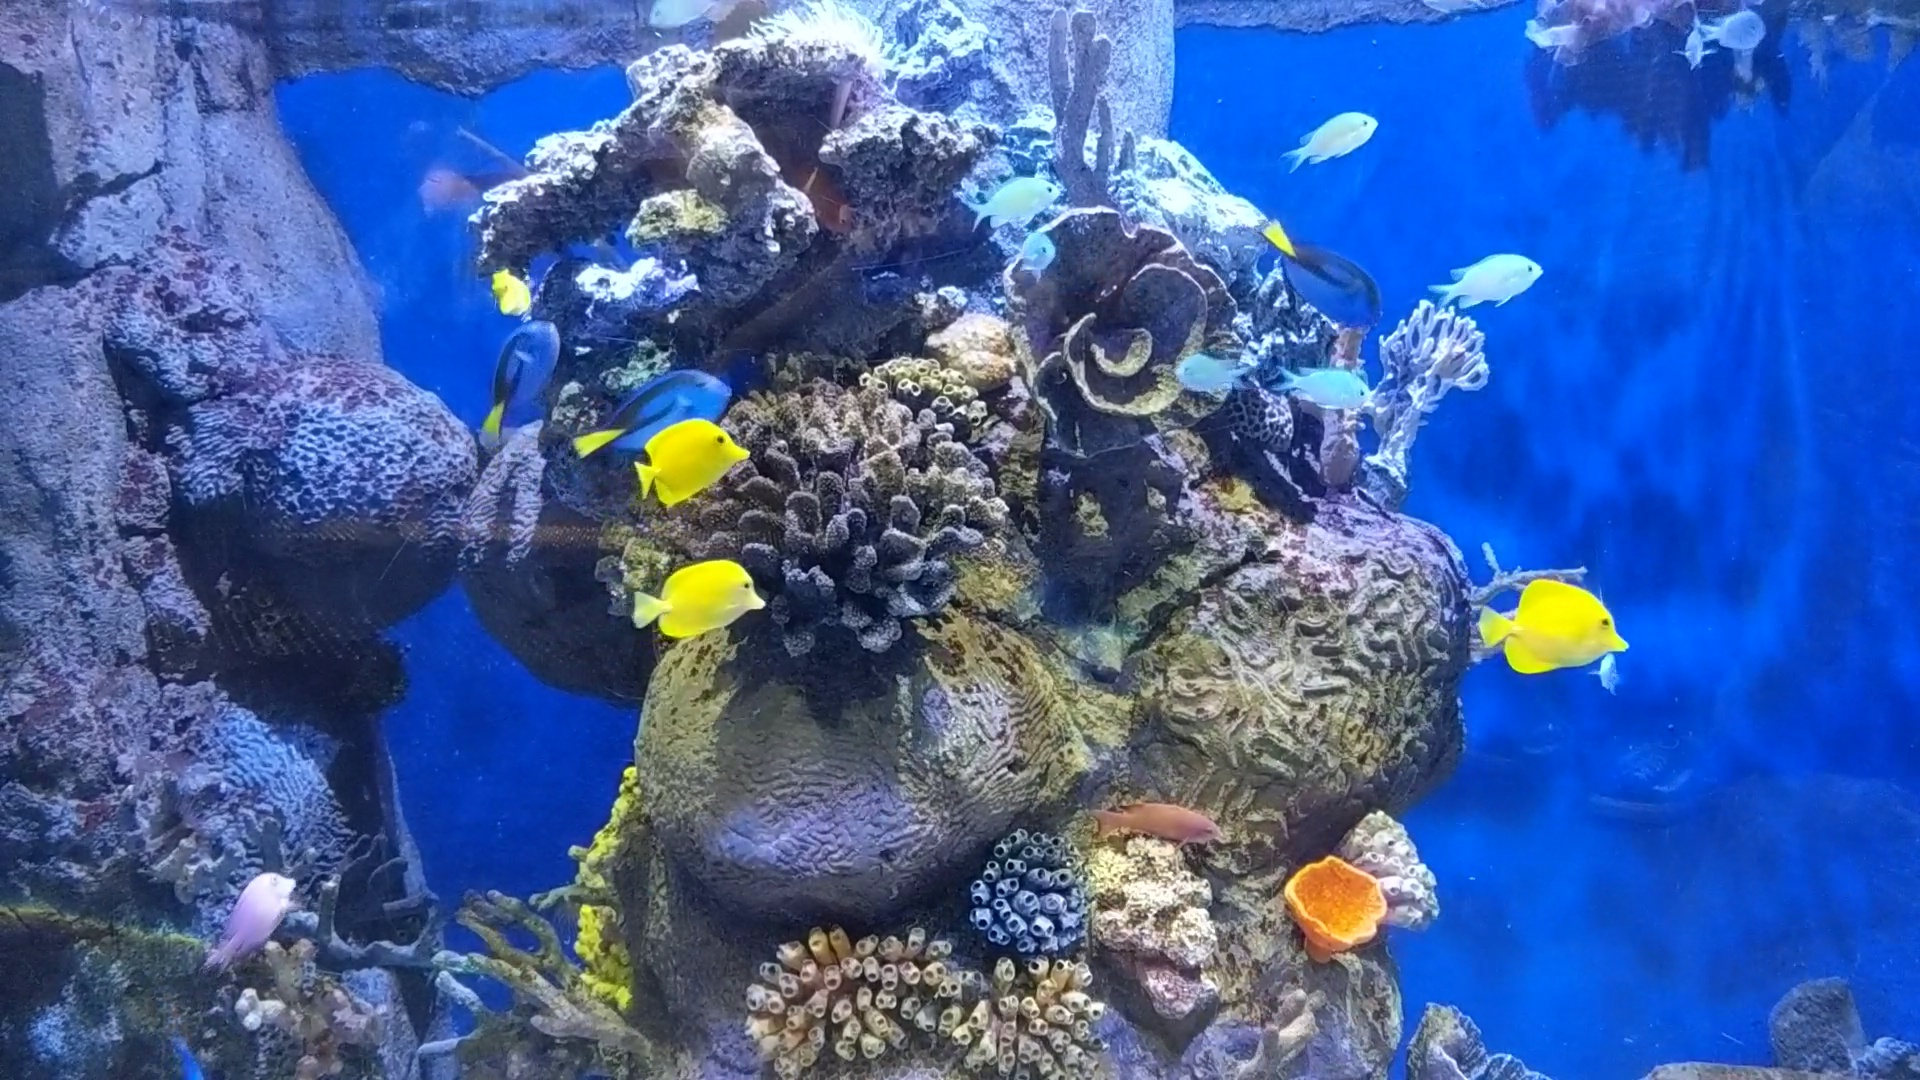blue tang surgeonfish: (1251, 204, 1389, 327), (564, 369, 733, 462), (479, 316, 570, 456), (160, 1025, 210, 1080)
damselfish: (1429, 252, 1548, 319), (1282, 103, 1386, 173), (967, 171, 1069, 229), (1267, 367, 1377, 413), (1709, 3, 1772, 73), (1174, 352, 1241, 397), (642, 0, 727, 36), (1589, 642, 1633, 709), (1677, 7, 1709, 82), (1015, 228, 1058, 282)
saddle butterfly fish: (1477, 572, 1634, 683), (621, 556, 764, 642), (634, 415, 752, 508), (487, 258, 545, 332)
